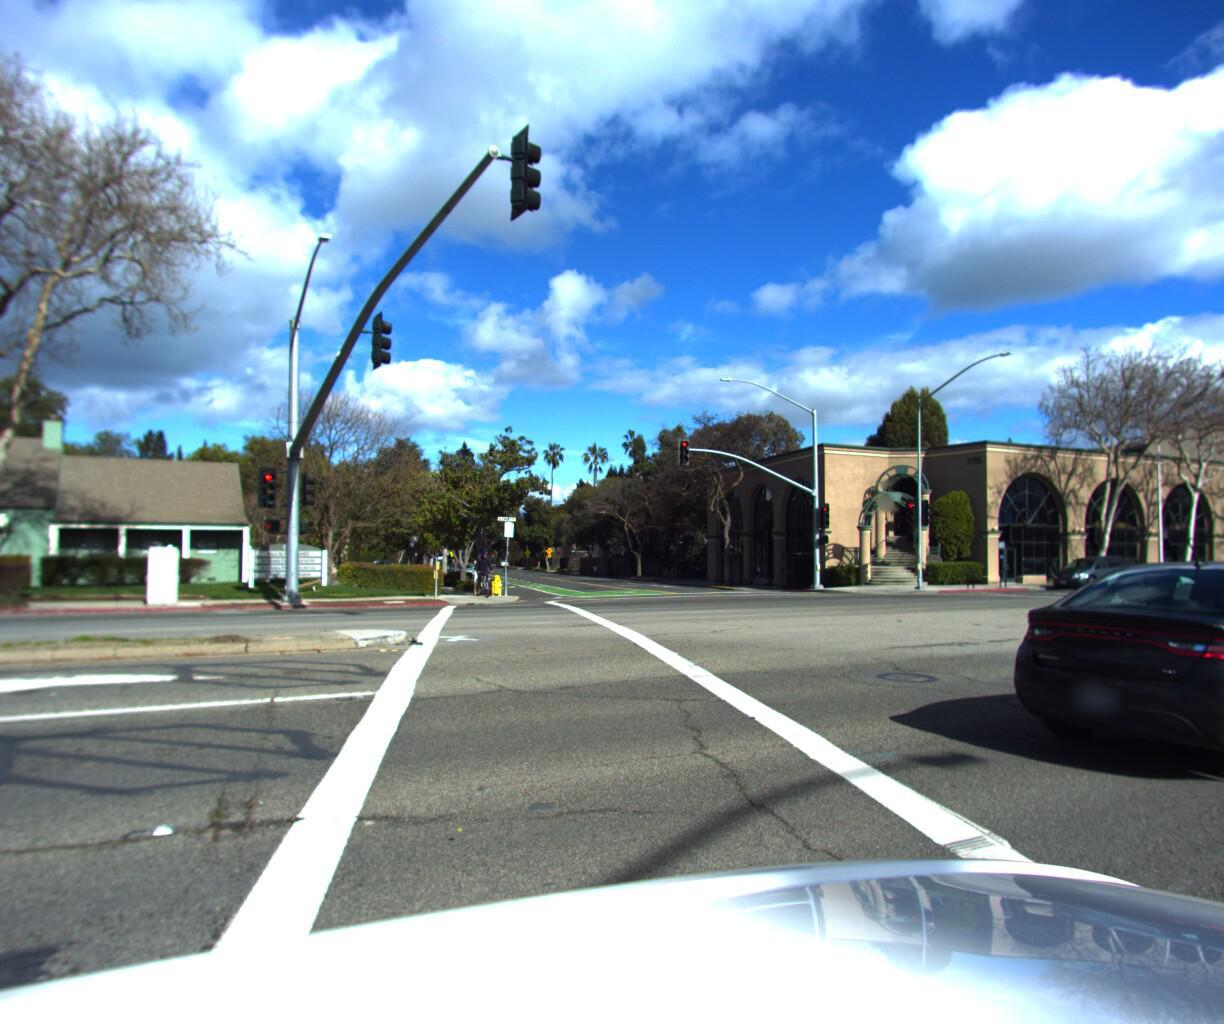bicycle: (463, 546, 499, 596)
car: (951, 548, 1224, 824), (1038, 551, 1136, 588), (1125, 555, 1212, 585)
